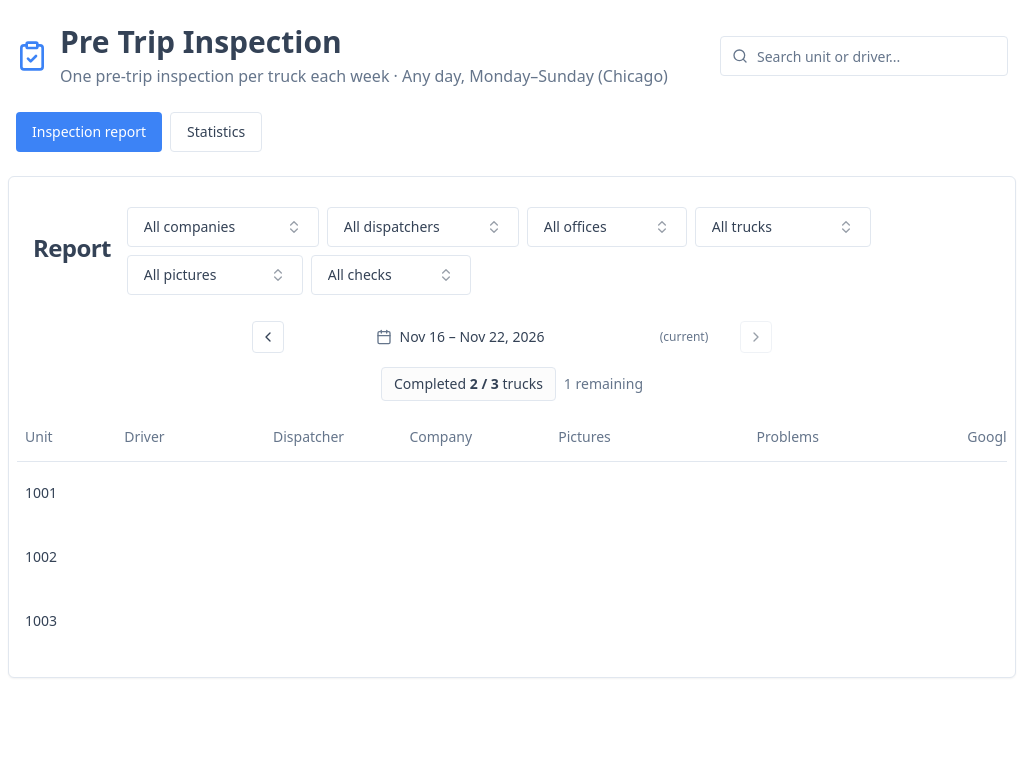
Test case: updates the counter with the visible search results
In the field with placeholder "Search unit or driver...": [864, 56] box [720,36,1008,76], type "1003"
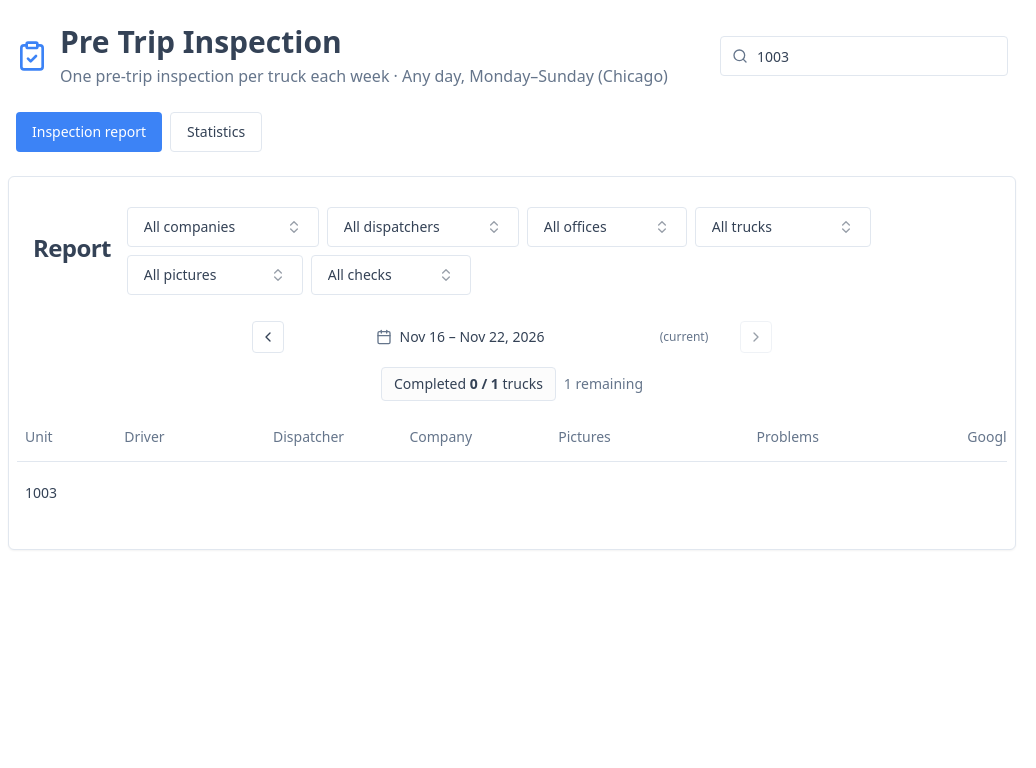
Check: the message shows "Completed 0 / 1 trucks", box [381,367,643,401]
Check: the text "1001" is gone
